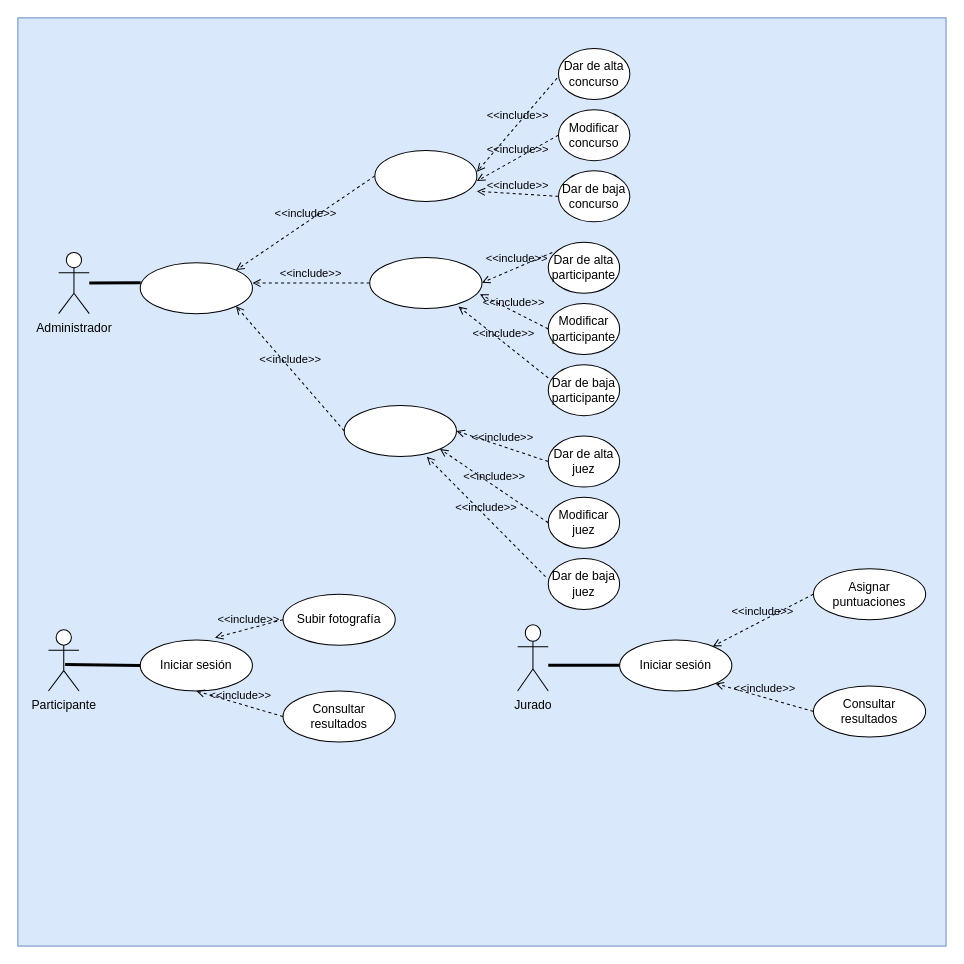
Some shapes in this 964 by 964 pixel diagram are drawn without their labels. The shapes that lost their labels are listed below. From the top down, each one's box as (x1, y1, x2, y2) in pixels, then its label:
(374, 149, 477, 201): Gestionar Concurso
(139, 262, 252, 314): Iniciar sesión Admin
(369, 257, 482, 309): Gestionar Participantes
(343, 404, 456, 456): Gestionar Jueces
